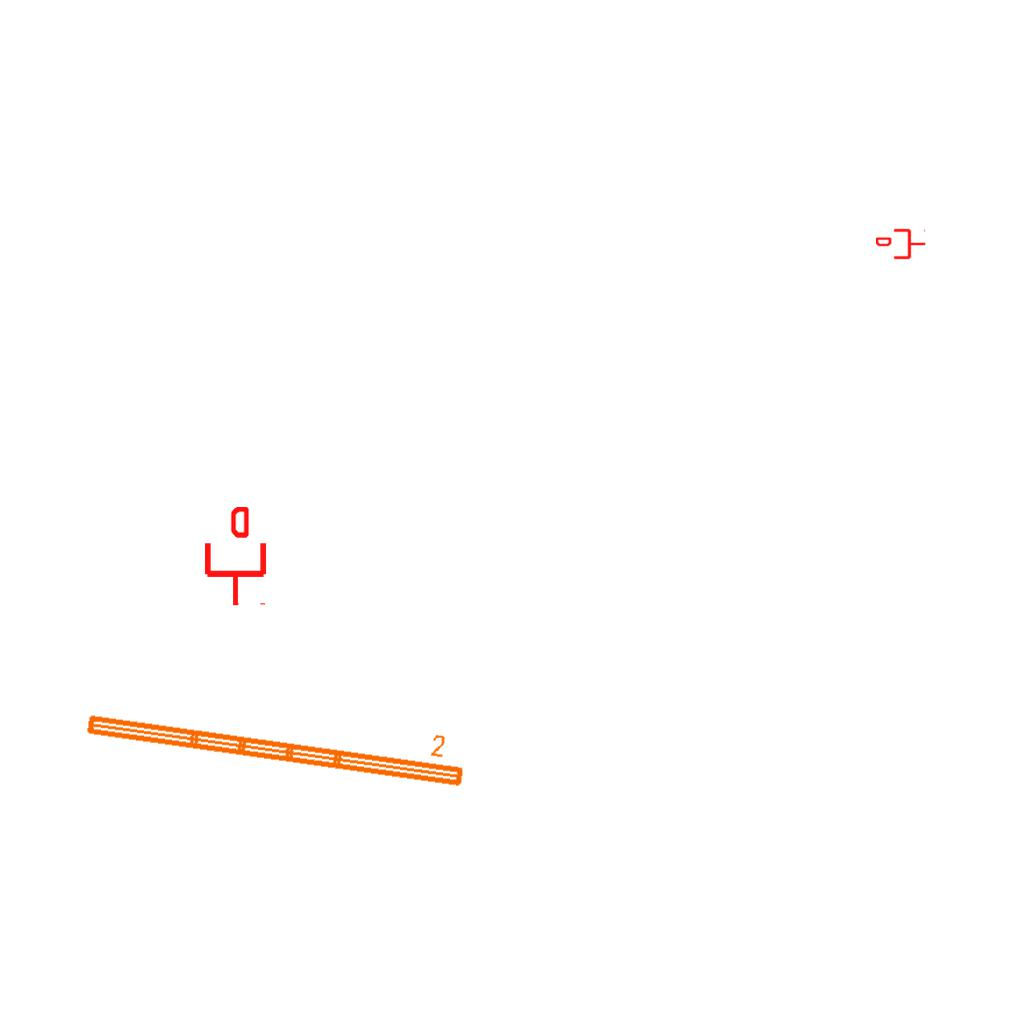Ambulanz_Pendelleuchte_LED: (80, 683, 473, 793)
Datenanschluss_einfach: (201, 507, 270, 607), (876, 227, 926, 261)
